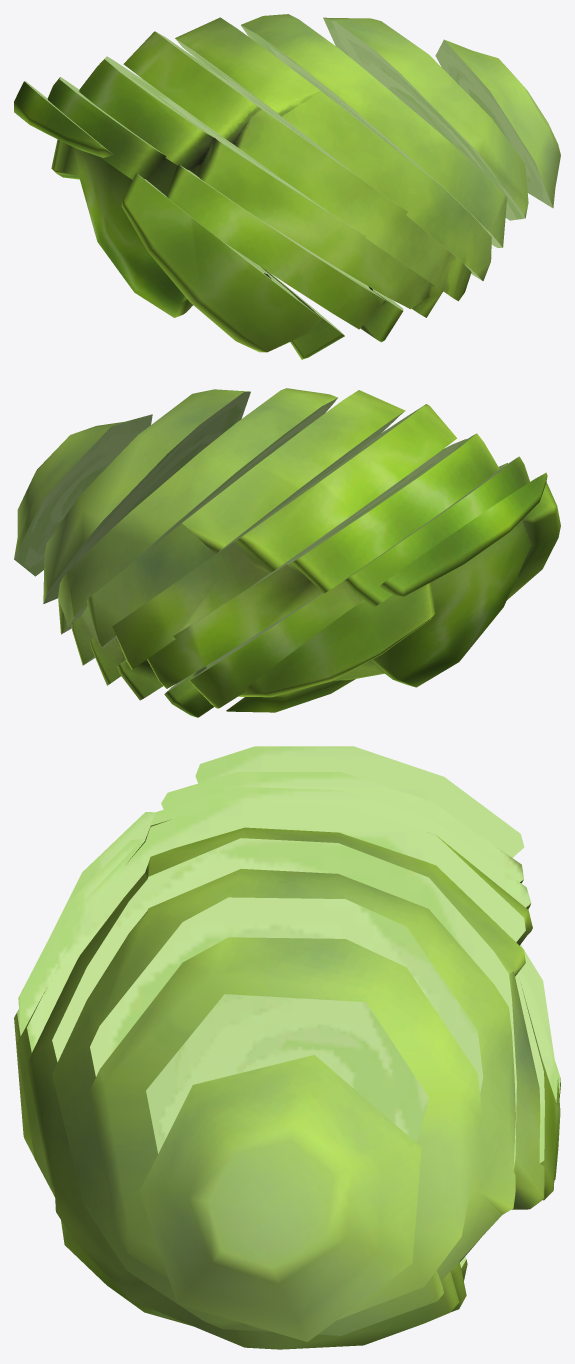
File: m_ingredients_lettuce_sliced_01.fbx
3 views of the same model, one above another, from view 1: azimuth 30°, elevation 25°; view 2: azimuth 150°, elevation 25°; view 3: azimuth 270°, elevation 25° (orthographic). The views are drawn at different scales.
Visible parts, largest first — view 1: Lettuce_Sliced_Static; view 2: Lettuce_Sliced_Static; view 3: Lettuce_Sliced_Static.
Boxes of the visible parts, <box> form: Lettuce_Sliced_Static: <box>14,14,560,359</box>; Lettuce_Sliced_Static: <box>14,388,560,717</box>; Lettuce_Sliced_Static: <box>14,746,560,1349</box>.
Bounding box in the file's own units: 11.5 × 6.72 × 7.89.
Materials: 1 (1 with a texture image).
